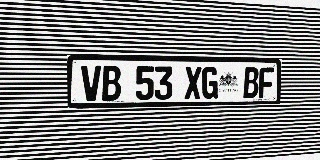3: (155, 66, 172, 100)
5: (136, 66, 154, 100)
B: (102, 66, 121, 101), (243, 67, 259, 98)
F: (259, 67, 274, 98)
G: (202, 67, 218, 99)
V: (81, 65, 101, 101)
X: (184, 67, 201, 99)
